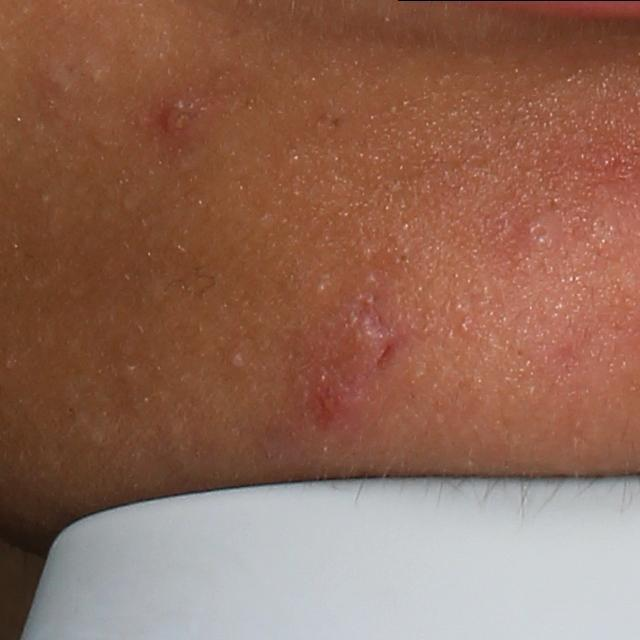comedo: (223, 347, 253, 381)
papule: (297, 368, 350, 436), (156, 90, 210, 146)
